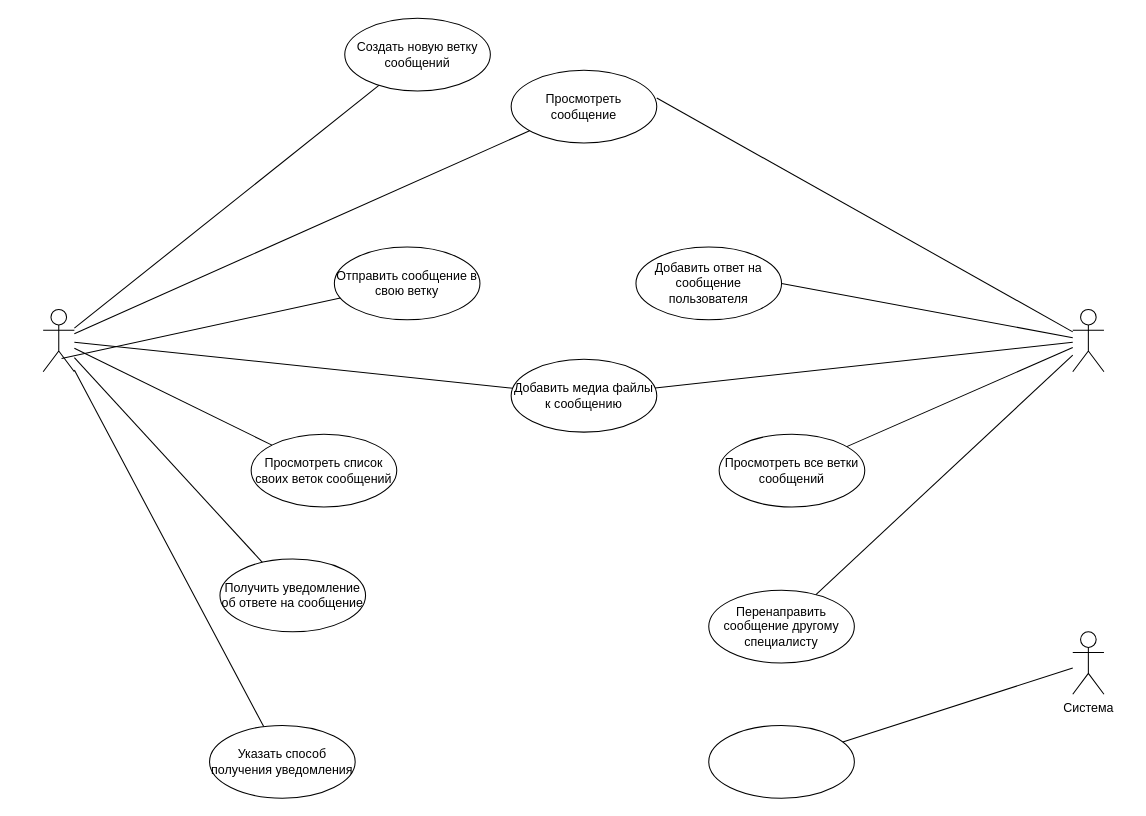
Some shapes in this 1146 by 816 pixel diagram are drawn without their labels. Each missing label, with the box of its shape:
Запрашивает информацию о новом пользователе из внешней системы: (708, 724, 854, 798)
Пользователь стороннего приложения: (42, 308, 74, 372)
Специалист техподдержки: (1072, 308, 1104, 372)
